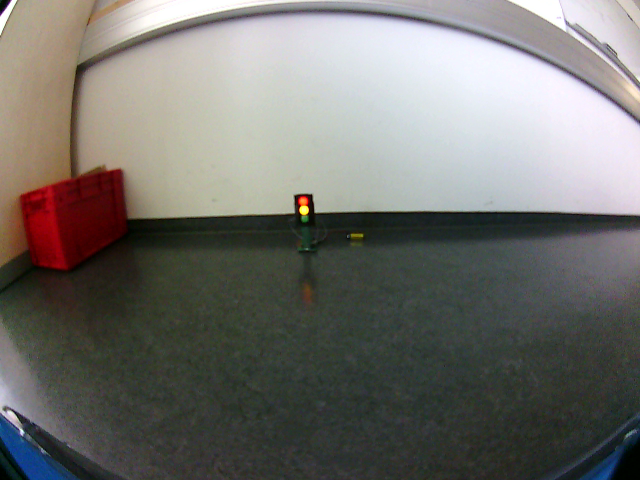red yellow trafficlight: (296, 195, 310, 228)
